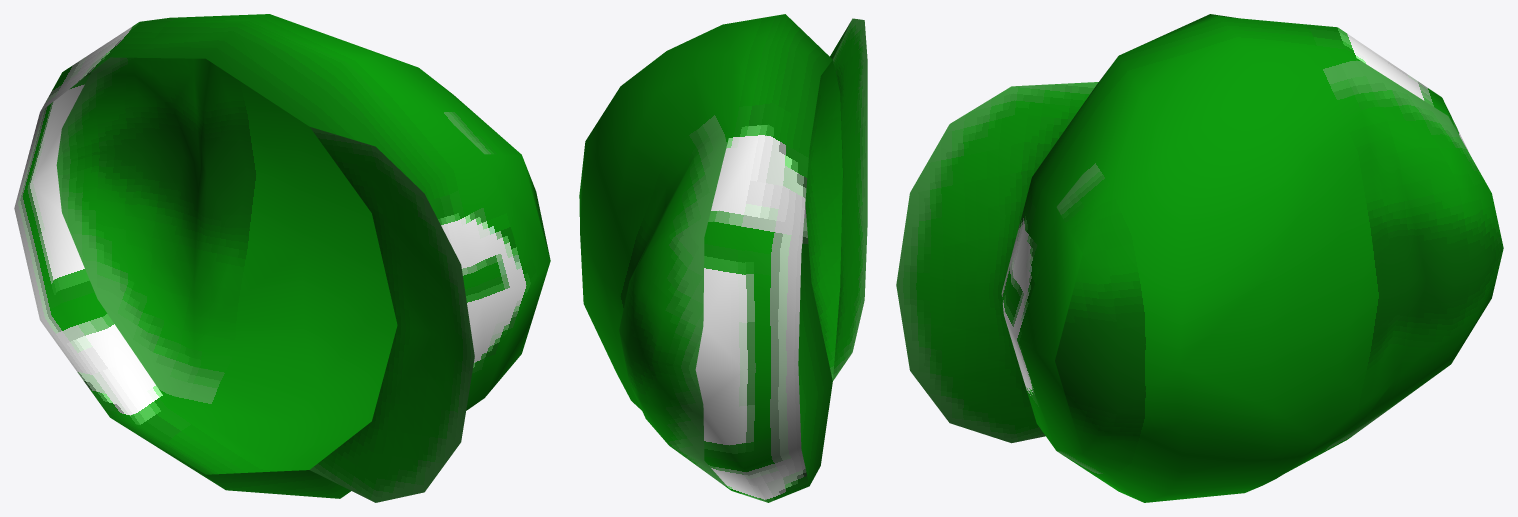
Rendered from cap_hat_lilbros.dae.
3 views of the same model, side by side, from view 1: azimuth 30°, elevation 25°; view 2: azimuth 150°, elevation 25°; view 3: azimuth 270°, elevation 25° (orthographic). The views are drawn at different scales.
Parts seen in each view (by area): view 1: cap_hat_lilbros; view 2: cap_hat_lilbros; view 3: cap_hat_lilbros.
Boxes of the visible parts, bbox=[...] form: cap_hat_lilbros: bbox=[14, 14, 550, 502]; cap_hat_lilbros: bbox=[579, 14, 867, 502]; cap_hat_lilbros: bbox=[896, 14, 1503, 502].
Bounding box in the file's own units: 19.57 × 23.64 × 27.95.
1 material, 1 textured.
